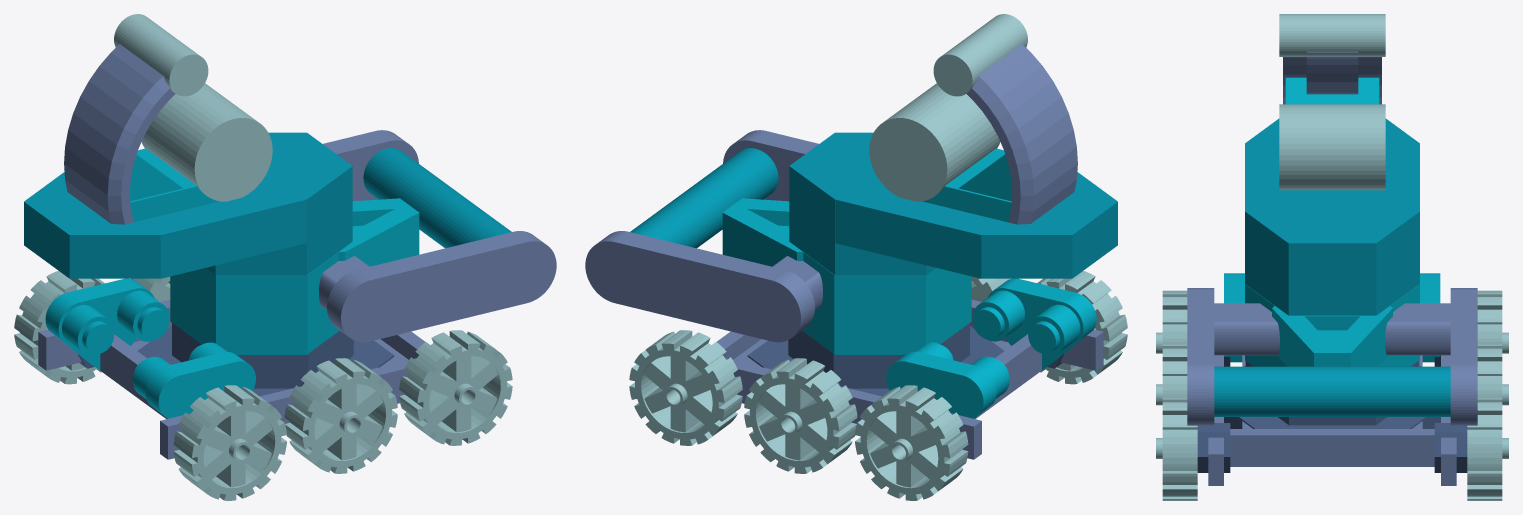
The model's file is bot-westcoast-blue-shooter.glb.
3 renders of one model, left to right at view 1: azimuth 30°, elevation 25°; view 2: azimuth 150°, elevation 25°; view 3: azimuth 270°, elevation 25°, orthographic. The views are drawn at different scales.
Parts seen in each view (by area): view 1: Mesh_Mesh_head_geo.001_lambert2SG.001; view 2: Mesh_Mesh_head_geo.001_lambert2SG.001; view 3: Mesh_Mesh_head_geo.001_lambert2SG.001.
Boxes of the visible parts, x1,y1,x2,y2 form: Mesh_Mesh_head_geo.001_lambert2SG.001: [14, 14, 556, 500]; Mesh_Mesh_head_geo.001_lambert2SG.001: [585, 14, 1127, 500]; Mesh_Mesh_head_geo.001_lambert2SG.001: [1156, 14, 1508, 500].
Bounding box in the file's own units: 0.0312 × 0.0273 × 0.023.
